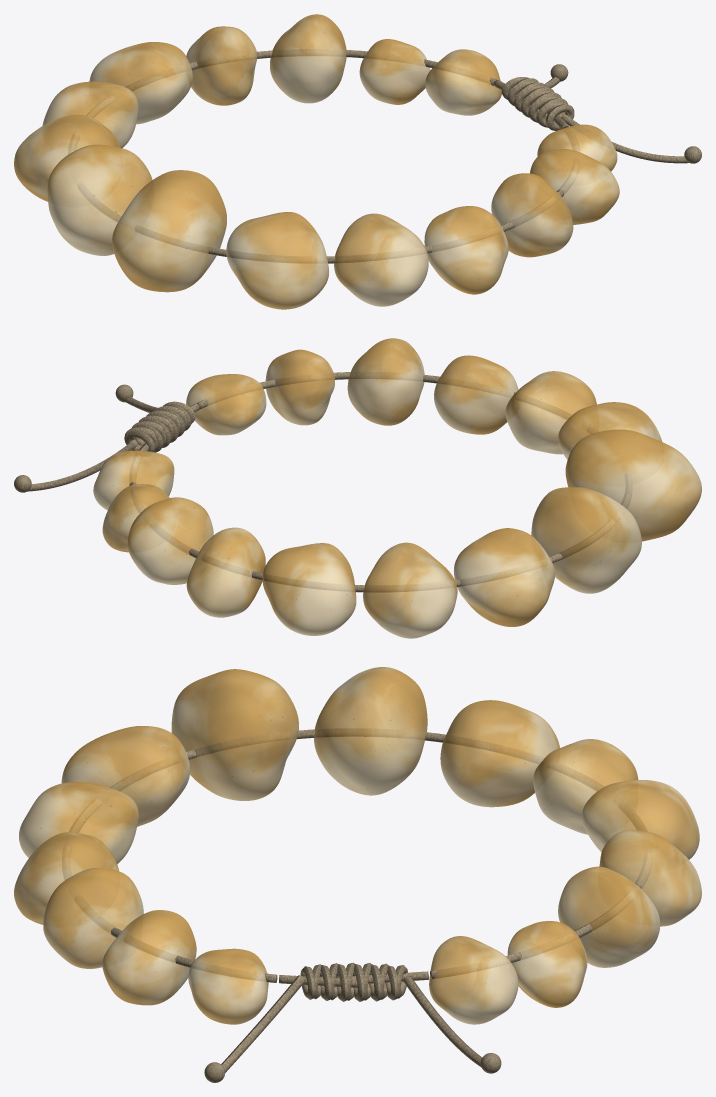
The model's file is krolewski.glb.
The picture shows the model from 3 angles, top to bottom: view 1: azimuth 30°, elevation 25°; view 2: azimuth 150°, elevation 25°; view 3: azimuth 270°, elevation 25°; orthographic projection. The views are drawn at different scales.
Parts seen in each view (by area): view 1: bead_nugget_3.001, bead_nugget_2.001, bead_nugget_4.001, nic.011, bead_nugget_0.002, bead_nugget_1.002, bead_nugget_2, bead_nugget_4, bead_nugget_2.002, bead_nugget_3, bead_nugget_3.002, bead_nugget_1.001 (+5 smaller); view 2: bead_nugget_3.001, bead_nugget_2.001, bead_nugget_1.001, bead_nugget_4, nic.011, bead_nugget_0.001, bead_nugget_2, bead_nugget_3, bead_nugget_2.002, bead_nugget_1.002, bead_nugget_0.002, bead_nugget_3.002 (+5 smaller); view 3: bead_nugget_3.001, bead_nugget_2.001, bead_nugget_1.001, nic.011, bead_nugget_4.001, bead_nugget_2, bead_nugget_2.002, bead_nugget_3.002, bead_nugget_0.002, bead_nugget_0, bead_nugget_4, bead_nugget_0.001 (+6 smaller).
Boxes of the visible parts, left/top/right/bottom form: bead_nugget_3.001: left=112, top=170, right=226, bottom=292; bead_nugget_2.001: left=47, top=144, right=152, bottom=255; bead_nugget_4.001: left=226, top=212, right=328, bottom=309; nic.011: left=68, top=49, right=579, bottom=263; bead_nugget_0.002: left=334, top=213, right=428, bottom=306; bead_nugget_1.002: left=424, top=206, right=508, bottom=294; bead_nugget_2: left=270, top=14, right=346, bottom=103; bead_nugget_4: left=89, top=42, right=192, bottom=124; bead_nugget_2.002: left=491, top=173, right=573, bottom=257; bead_nugget_3: left=186, top=26, right=257, bottom=105; bead_nugget_3.002: left=530, top=149, right=619, bottom=224; bead_nugget_1.001: left=14, top=114, right=120, bottom=201; bead_nugget_3.001: left=565, top=429, right=701, bottom=541; bead_nugget_2.001: left=531, top=487, right=641, bottom=593; bead_nugget_1.001: left=454, top=528, right=555, bottom=626; bead_nugget_4: left=262, top=543, right=356, bottom=635; nic.011: left=129, top=372, right=632, bottom=592; bead_nugget_0.001: left=363, top=542, right=457, bottom=638; bead_nugget_2: left=127, top=497, right=213, bottom=584; bead_nugget_3: left=186, top=527, right=265, bottom=617; bead_nugget_2.002: left=347, top=338, right=424, bottom=425; bead_nugget_1.002: left=434, top=355, right=518, bottom=434; bead_nugget_0.002: left=505, top=371, right=596, bottom=454; bead_nugget_3.002: left=265, top=349, right=334, bottom=425; bead_nugget_3.001: left=171, top=669, right=298, bottom=800; bead_nugget_2.001: left=314, top=667, right=427, bottom=795; bead_nugget_1.001: left=440, top=700, right=559, bottom=807; nic.011: left=62, top=728, right=651, bottom=982; bead_nugget_4.001: left=61, top=726, right=190, bottom=826; bead_nugget_2: left=558, top=866, right=660, bottom=967; bead_nugget_2.002: left=43, top=868, right=143, bottom=968; bead_nugget_3.002: left=102, top=910, right=196, bottom=1005; bead_nugget_0.002: left=19, top=782, right=138, bottom=863; bead_nugget_0: left=429, top=936, right=518, bottom=1024; bead_nugget_4: left=582, top=780, right=699, bottom=859; bead_nugget_0.001: left=533, top=739, right=638, bottom=834.
Size of the model in its own units: 7.55 by 1.36 by 6.58.
4 materials, 4 textured.
